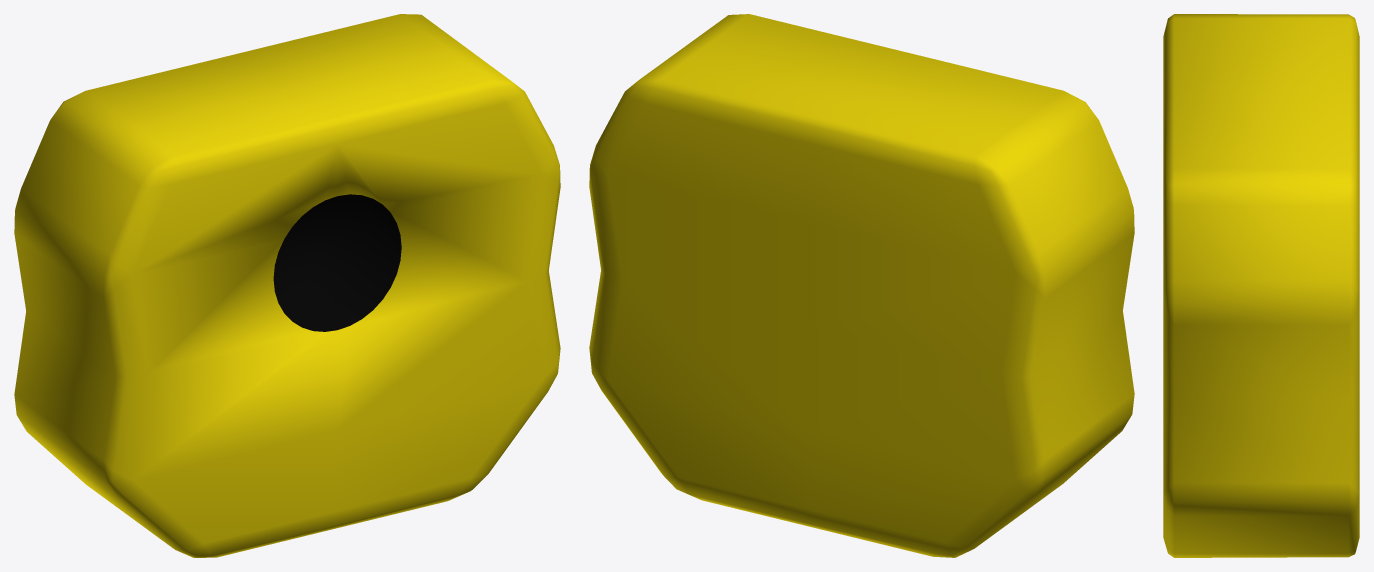
File: Candado.glb
3 views of the same model, side by side, from view 1: azimuth 30°, elevation 25°; view 2: azimuth 150°, elevation 25°; view 3: azimuth 270°, elevation 25° (orthographic). The views are drawn at different scales.
Parts seen in each view (by area): view 1: Cube; view 2: Cube; view 3: Cube.
Part boxes in pixels (x1=…): Cube: x1=14, y1=14, x2=560, y2=557; Cube: x1=589, y1=14, x2=1134, y2=557; Cube: x1=1163, y1=14, x2=1359, y2=557.
Size of the model in its own units: 1.97 by 1.7 by 0.7494.
